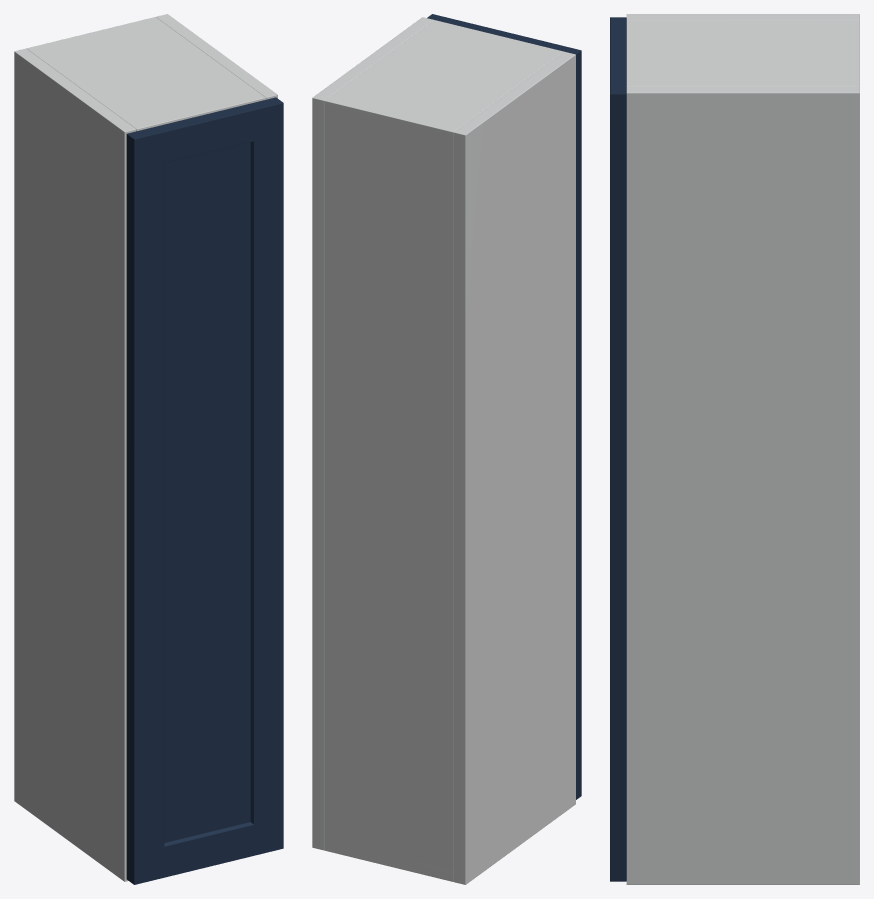
Rendered from oppein-pb-bss-w0942.glb.
3 renders of one model, left to right at view 1: azimuth 30°, elevation 25°; view 2: azimuth 150°, elevation 25°; view 3: azimuth 270°, elevation 25°, orthographic. The views are drawn at different scales.
Visible parts, largest first — view 1: Door, Cabinet side, Cabinet top, Cabinet side.001; view 2: Cabinet back, Cabinet side, Cabinet top, Cabinet side.001, Door; view 3: Cabinet side.001, Cabinet top, Door, Cabinet side.
Part boxes in pixels (left/top/right/bottom): Door: left=126, top=97, right=283, bottom=884; Cabinet side: left=14, top=48, right=136, bottom=881; Cabinet top: left=26, top=17, right=265, bottom=131; Cabinet side.001: left=156, top=14, right=277, bottom=99; Cabinet back: left=324, top=101, right=453, bottom=881; Cabinet side: left=453, top=51, right=575, bottom=884; Cabinet top: left=324, top=20, right=563, bottom=143; Cabinet side.001: left=312, top=17, right=433, bottom=850; Door: left=427, top=14, right=581, bottom=799; Cabinet side.001: left=626, top=87, right=859, bottom=884; Cabinet top: left=626, top=20, right=859, bottom=86; Door: left=610, top=17, right=626, bottom=881; Cabinet side: left=626, top=14, right=859, bottom=20.
Size of the model in its own units: 0.2286 by 1.07 by 0.3048.
